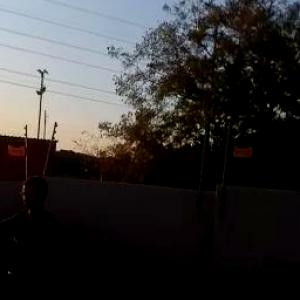follow: (0, 169, 60, 299)
